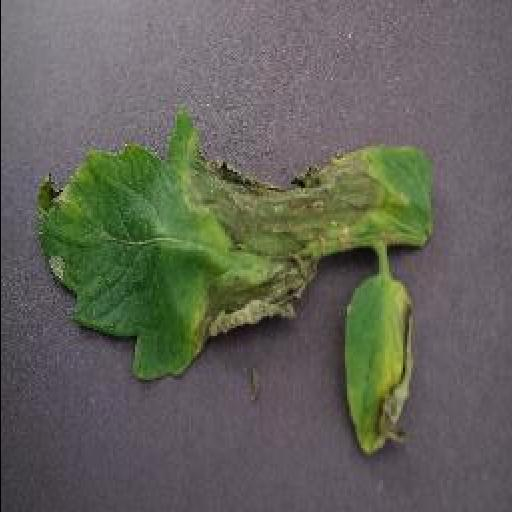disease_tomato: (34, 116, 436, 382), (342, 273, 418, 463)
